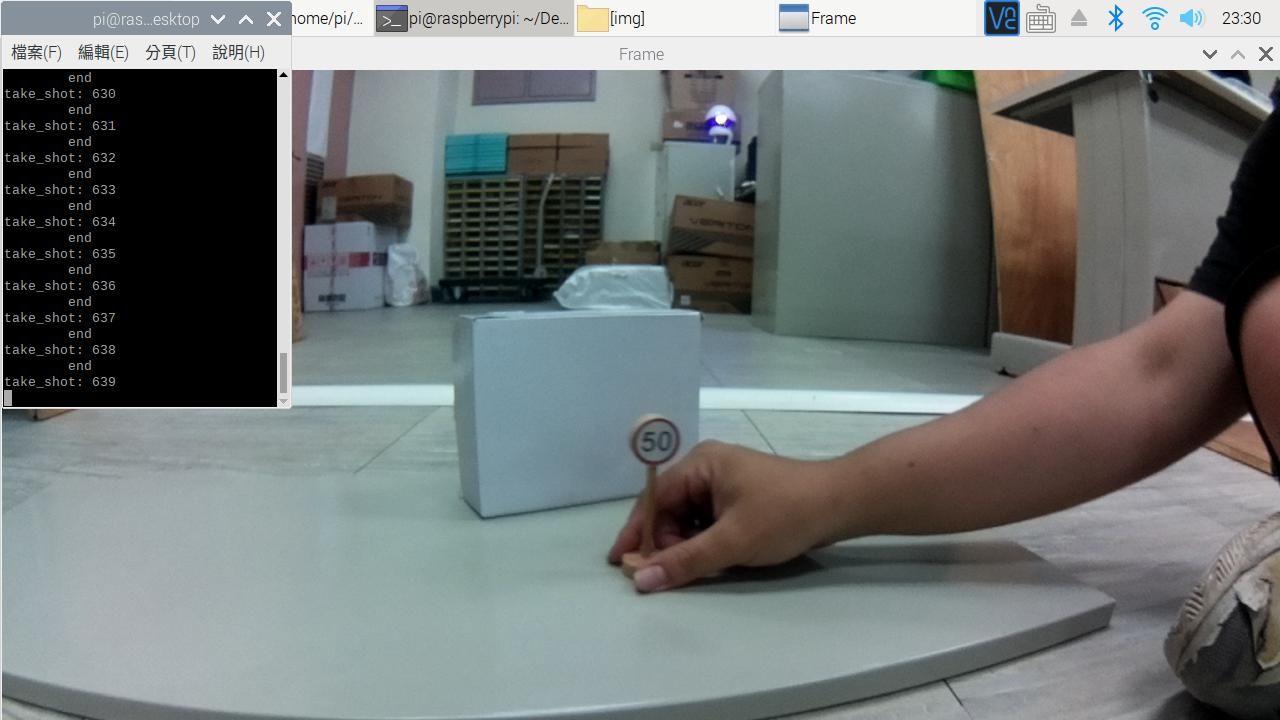Speed50: (616, 408, 682, 466)
